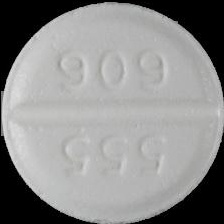51079-434: (0, 0, 224, 224)
